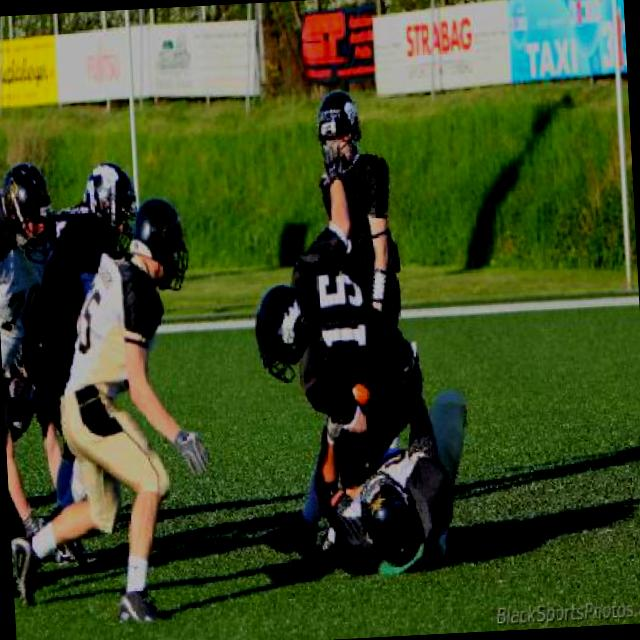Person: (244, 134, 426, 490), (10, 160, 156, 572), (310, 411, 457, 581), (0, 160, 66, 537), (314, 88, 404, 314)
